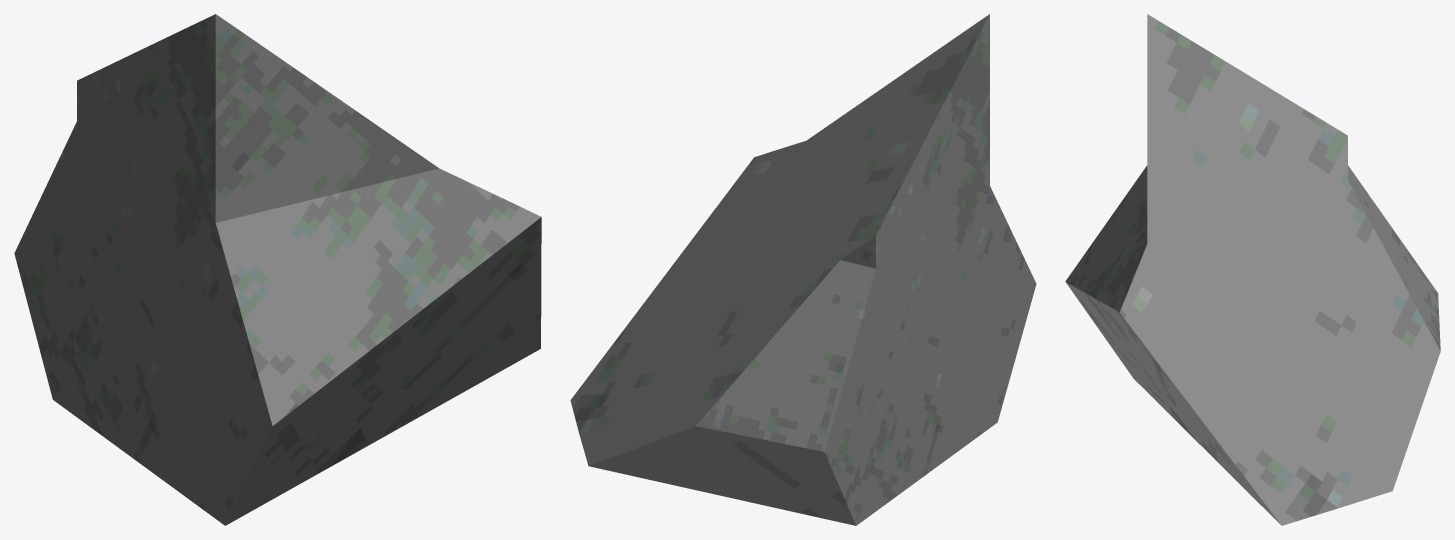
Rendered from barriar_cell_011.glb.
3 renders of one model, left to right at view 1: azimuth 30°, elevation 25°; view 2: azimuth 150°, elevation 25°; view 3: azimuth 270°, elevation 25°, orthographic. The views are drawn at different scales.
Parts seen in each view (by area): view 1: Barriar_cell.011; view 2: Barriar_cell.011; view 3: Barriar_cell.011.
Boxes of the visible parts, box(x1,y1,x2,y2) form: Barriar_cell.011: box(14, 14, 541, 525); Barriar_cell.011: box(570, 14, 1036, 525); Barriar_cell.011: box(1065, 14, 1440, 525).
Size of the model in its own units: 0.7204 by 0.831 by 0.7755.
Materials: 1 (1 with a texture image).
